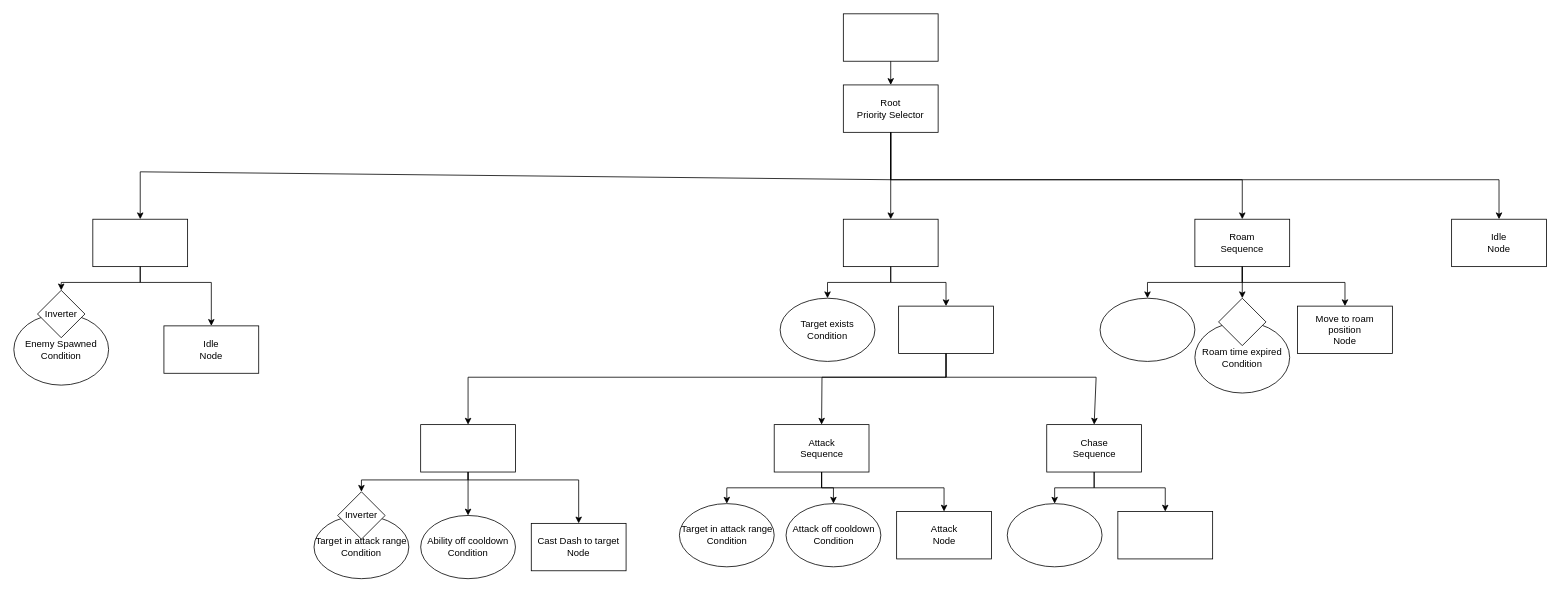
This 1560x593 diagram has some shape labels left out. Each missing label, with the box of its shape:
Chase Node: (1117, 511, 1213, 559)
Combat Selector: (898, 305, 993, 354)
Combat Sequence: (843, 218, 938, 267)
Dash Sequence: (420, 424, 515, 472)
DemonMelee BT: (843, 13, 938, 61)
Invertor: (1218, 297, 1266, 346)
Roam position != 0 Condition: (1099, 297, 1195, 361)
Spawn Sequence: (92, 218, 188, 267)
Target in chase range Condition: (1006, 503, 1102, 567)
